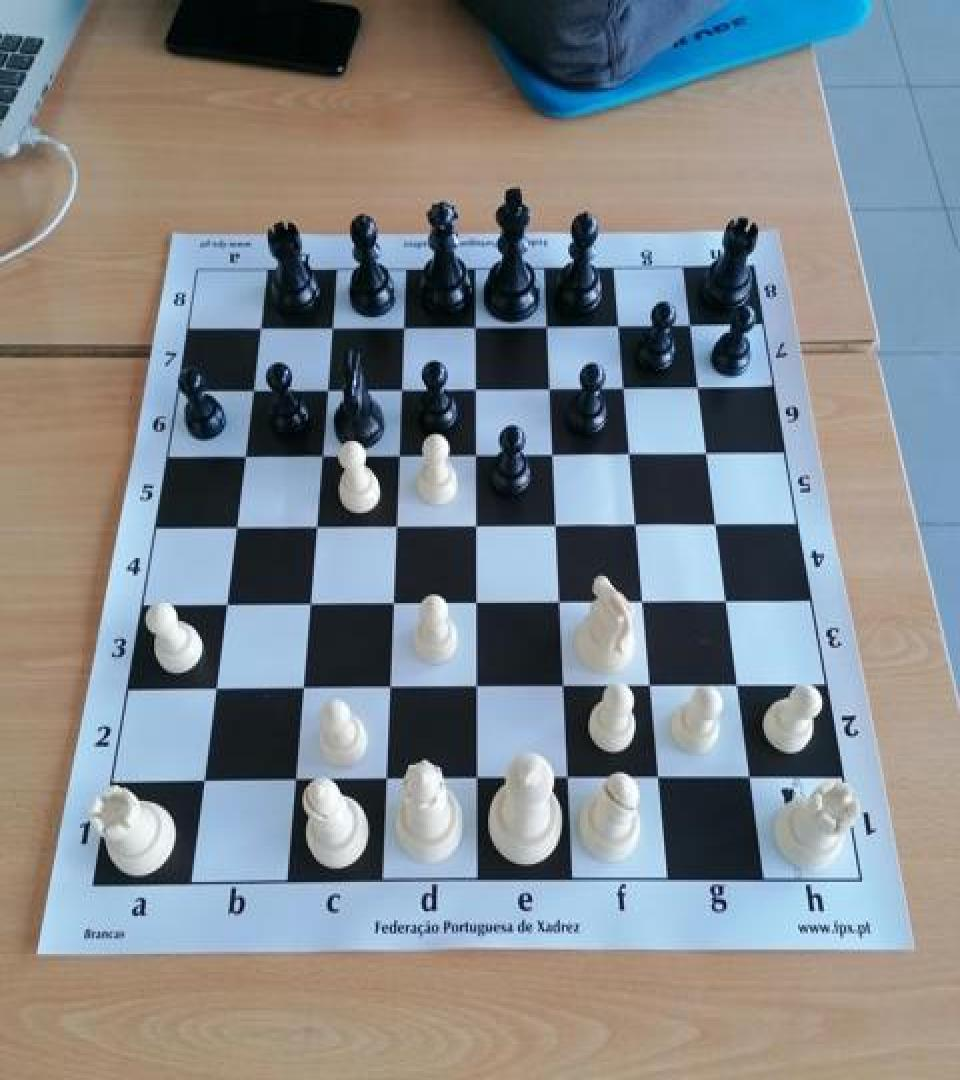xcorner: (288, 669, 320, 706), (375, 669, 407, 706), (372, 761, 404, 798), (715, 581, 747, 618), (246, 306, 278, 342), (238, 368, 270, 404), (229, 436, 261, 472), (220, 508, 252, 544), (210, 585, 242, 621), (199, 670, 231, 706), (188, 763, 220, 799), (318, 306, 350, 342), (313, 368, 345, 404), (307, 434, 339, 470), (301, 506, 333, 542), (295, 585, 327, 621), (280, 763, 312, 799), (390, 306, 422, 342), (387, 368, 419, 404), (385, 434, 417, 470), (382, 506, 414, 542), (379, 584, 411, 620), (462, 306, 494, 342), (462, 368, 494, 404), (462, 434, 494, 470), (463, 506, 495, 542), (463, 584, 495, 620), (463, 668, 495, 704), (464, 760, 496, 796), (534, 305, 566, 341), (537, 367, 569, 403), (540, 433, 572, 469), (543, 505, 575, 541), (547, 583, 579, 619), (551, 668, 583, 704), (556, 760, 588, 796), (606, 305, 638, 341), (611, 367, 643, 403), (617, 433, 649, 469), (624, 505, 656, 541), (631, 583, 663, 619), (639, 667, 671, 703), (647, 760, 679, 796), (677, 305, 709, 341), (686, 367, 718, 403), (695, 433, 727, 469), (704, 504, 736, 540), (726, 667, 758, 703), (739, 760, 771, 796)
